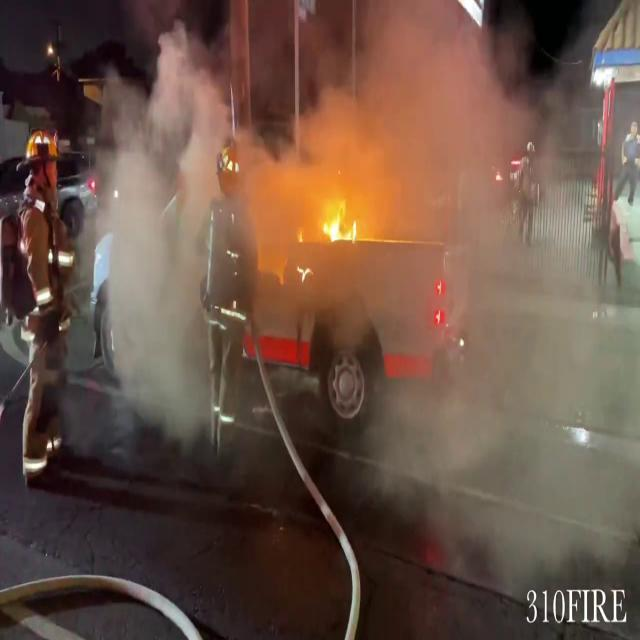Fire: (315, 189, 363, 249)
Smoke: (77, 0, 598, 420)
